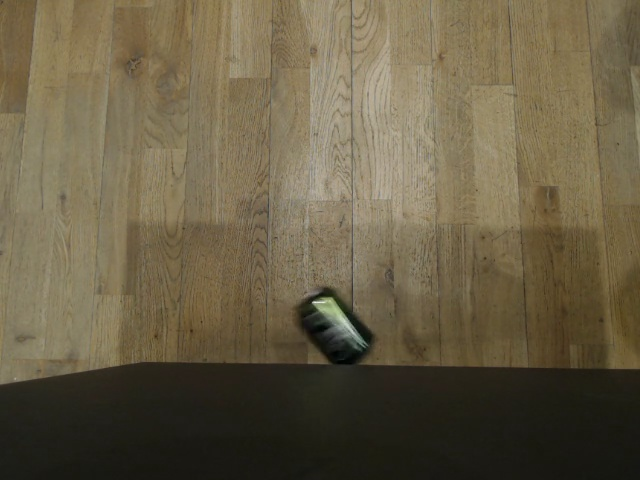beer: (283, 271, 380, 362)
